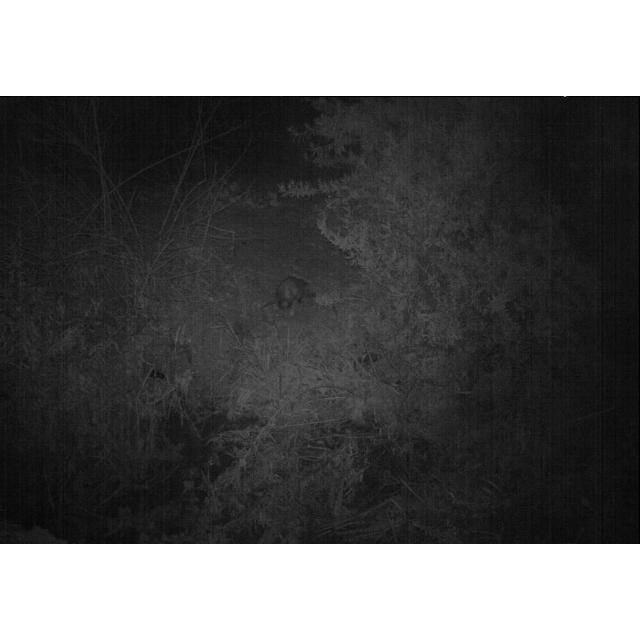animals: (270, 273, 318, 311)
